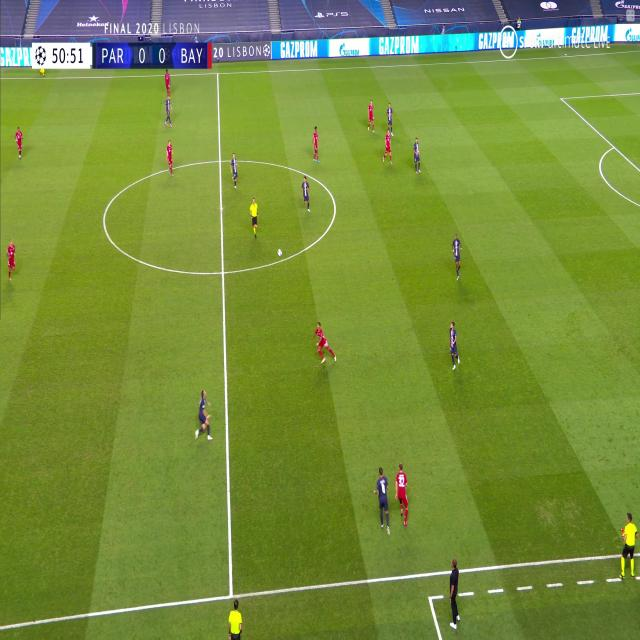ball: (278, 247, 282, 256)
player: (618, 511, 639, 581), (194, 388, 214, 441), (375, 467, 391, 533), (394, 463, 410, 526), (448, 558, 462, 628), (314, 322, 337, 364), (228, 599, 243, 640), (448, 321, 460, 369), (451, 234, 463, 280), (6, 238, 17, 282), (249, 196, 259, 238), (382, 130, 394, 164), (300, 176, 311, 212), (230, 151, 239, 189), (311, 125, 320, 163), (14, 125, 24, 159), (412, 137, 421, 174), (166, 138, 174, 178), (164, 96, 174, 127), (367, 99, 375, 132), (385, 104, 394, 133), (164, 70, 172, 98)
